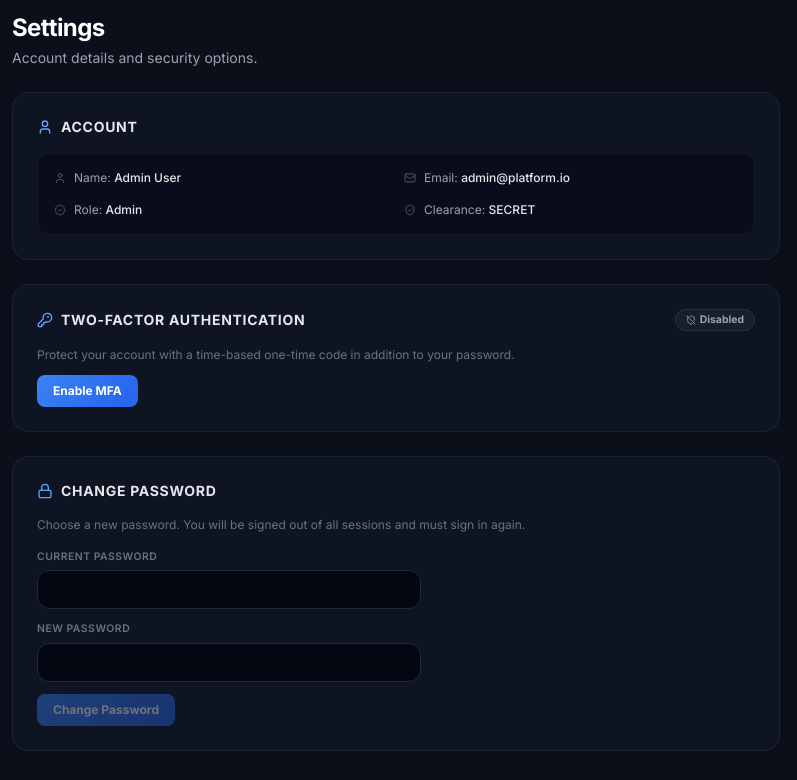
<Settings /> change password form › shows an error message when authApi.changePassword rejects
Expected: the button "Change Password" is shown, x1=37 y1=694 x2=175 y2=726
In the password field below "Current Password": [229, 590] box x1=37 y1=570 x2=421 y2=609, type "wrongpass"
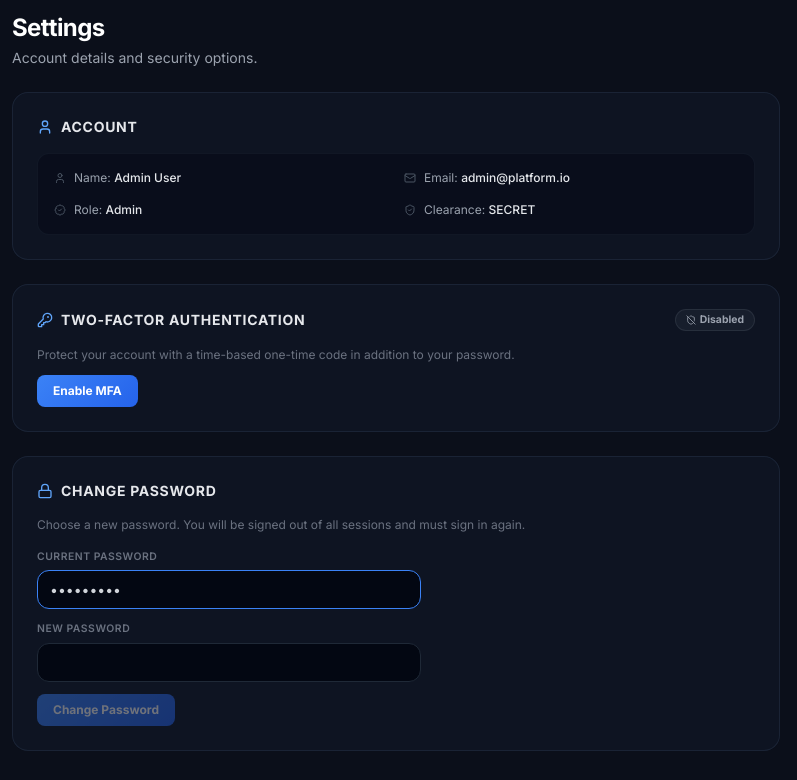
In the 2nd password field: [229, 662] box x1=37 y1=643 x2=421 y2=682, type "newpass1"
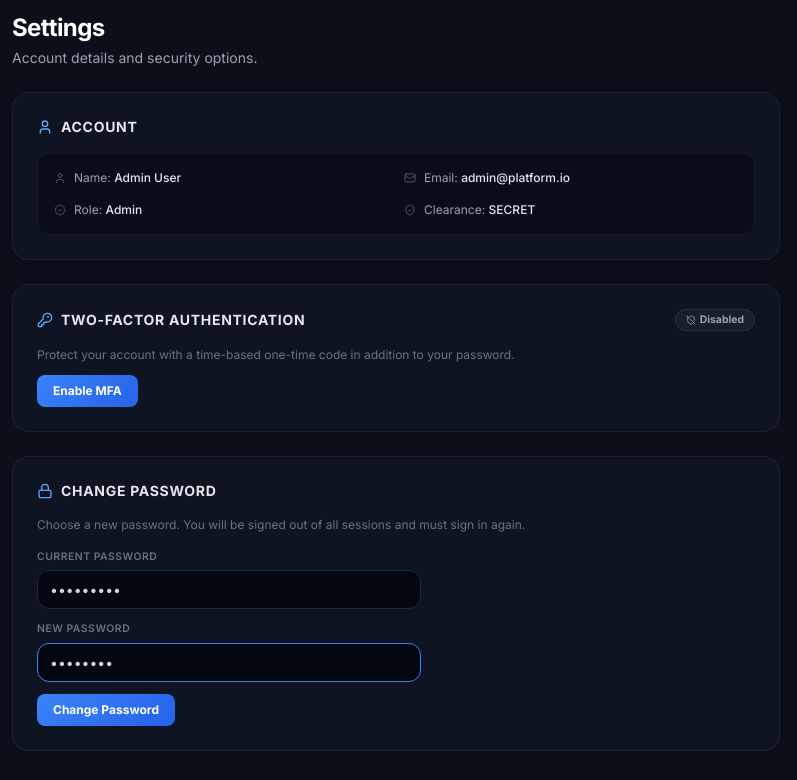
Click the button "Change Password": [106, 710] box x1=37 y1=694 x2=175 y2=726
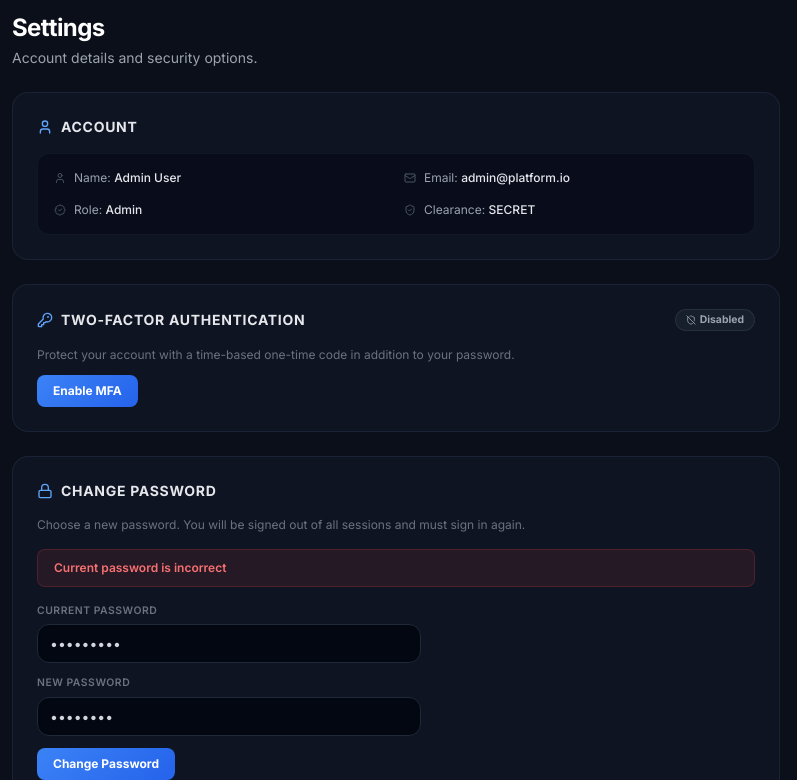
Expected: the text "Current password is incorrect" is shown, x1=37 y1=549 x2=755 y2=587
